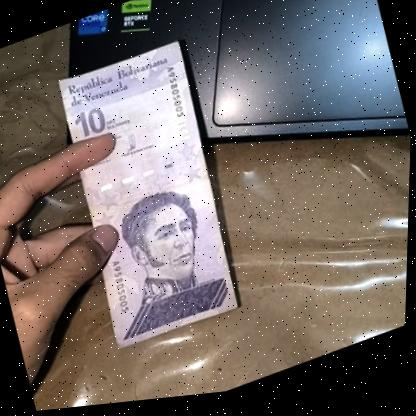ten-front-vef: (46, 34, 252, 361)
